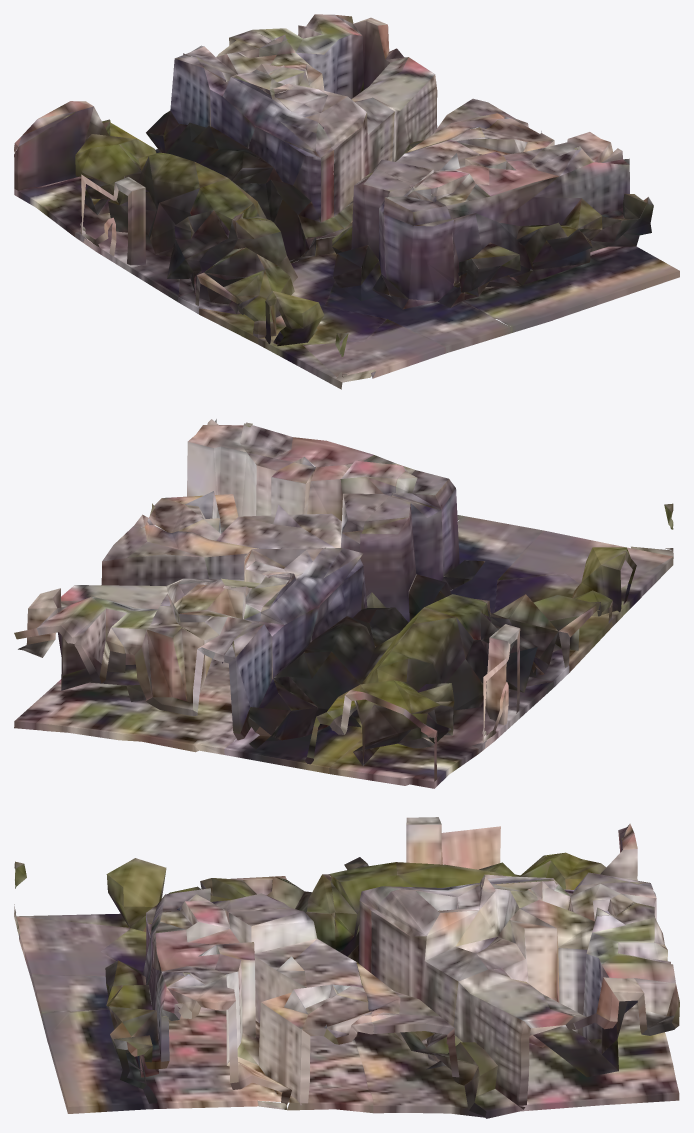
3 views of the same model, one above another, from view 1: azimuth 30°, elevation 25°; view 2: azimuth 150°, elevation 25°; view 3: azimuth 270°, elevation 25° (orthographic). The views are drawn at different scales.
Parts seen in each view (by area): view 1: Mesh_0; view 2: Mesh_0; view 3: Mesh_0.
Part boxes in pixels (x1,y1,x2,y2): Mesh_0: (14,14,679,389); Mesh_0: (14,419,673,788); Mesh_0: (14,817,679,1118).
Size of the model in its own units: 133 by 39.88 by 165.
1 material, 1 textured.
